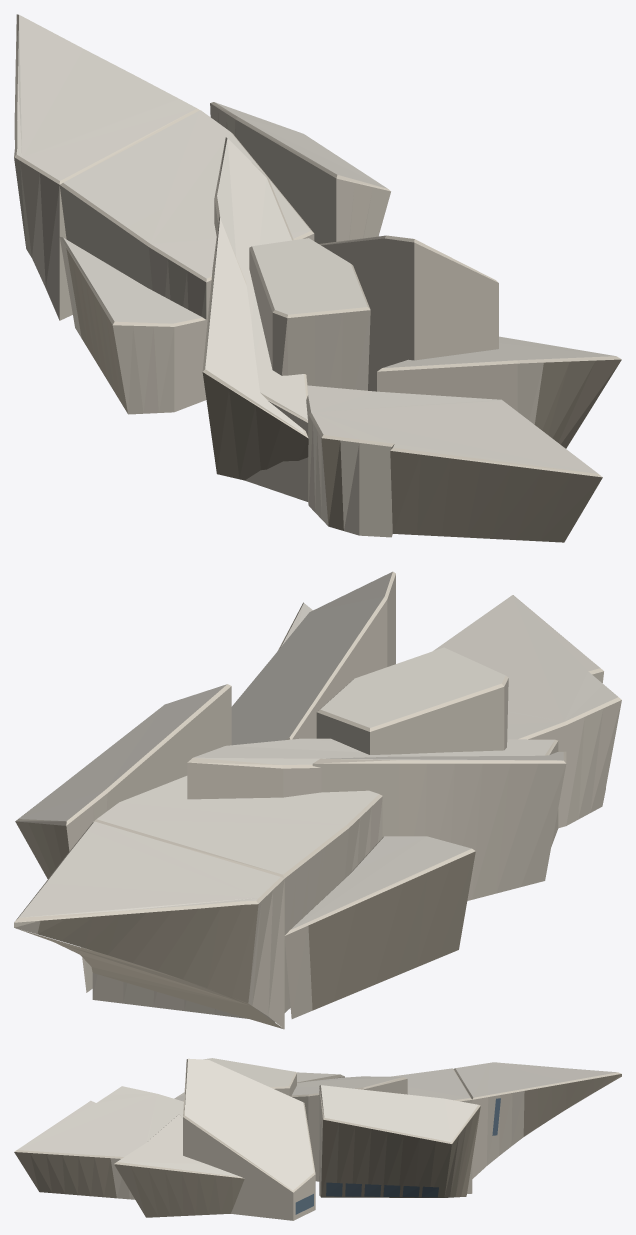
Rendered from den-art-museum-hamilton.glb.
The picture shows the model from 3 angles, top to bottom: view 1: azimuth 30°, elevation 25°; view 2: azimuth 150°, elevation 25°; view 3: azimuth 270°, elevation 25°; orthographic projection. The views are drawn at different scales.
Parts seen in each view (by area): view 1: Denver Art Museum, Hamilton Building; view 2: Denver Art Museum, Hamilton Building; view 3: Denver Art Museum, Hamilton Building.
Part boxes in pixels (box(x1,y1,x2,y2)): Denver Art Museum, Hamilton Building: box(14, 14, 621, 542); Denver Art Museum, Hamilton Building: box(14, 571, 621, 1029); Denver Art Museum, Hamilton Building: box(14, 1058, 621, 1220).
Size of the model in its own units: 61.13 by 38.01 by 165.
